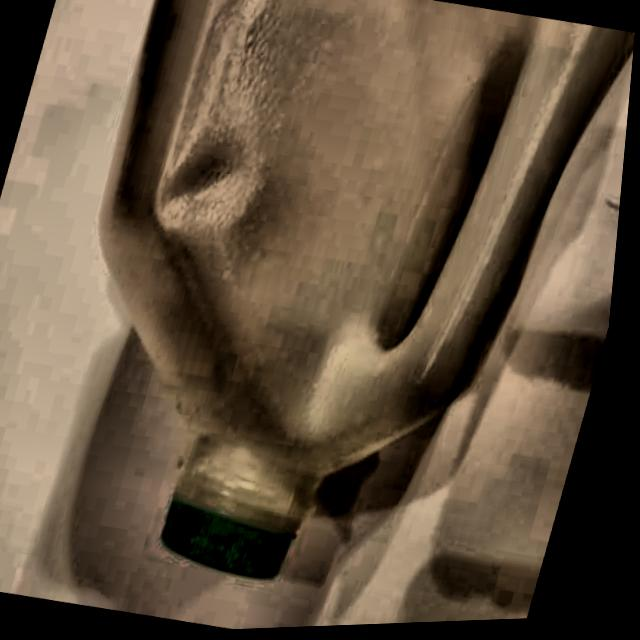Plastic: (0, 0, 604, 629)
